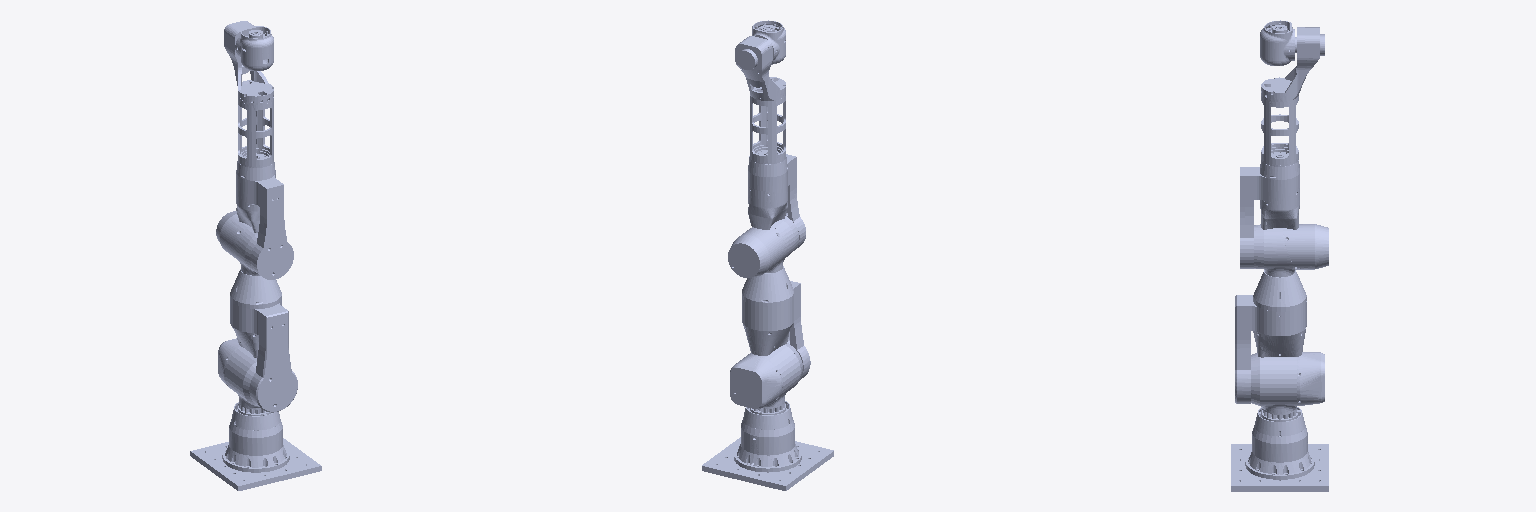
robot.urdf — mani2_config:
<?xml version="1.0" encoding="utf-8"?>
<!-- This URDF was automatically created by SolidWorks to URDF Exporter! Originally created by [author] ([email redacted]) 
     Commit Version: 1.6.0-1-g15f4949  Build Version: 1.6.7594.29634
     For more information, please see http://wiki.ros.org/sw_urdf_exporter -->
<robot
  name="mani2_config">
  <link
    name="mani2_base">
    <inertial>
      <origin
        xyz="-3.1029E-18 3.9676E-18 0.006"
        rpy="0 0 0" />
      <mass
        value="0.43725" />
      <inertia
        ixx="0.0015698"
        ixy="1.096E-20"
        ixz="1.1641E-20"
        iyy="0.0015694"
        iyz="-1.1277E-20"
        izz="0.0031287" />
    </inertial>
    <visual>
      <origin
        xyz="0 0 0"
        rpy="0 0 0" />
      <geometry>
        <mesh
          filename="package://mani2_config/meshes/mani2_base.STL" />
      </geometry>
      <material
        name="">
        <color
          rgba="0.79216 0.81961 0.93333 1" />
      </material>
    </visual>
    <collision>
      <origin
        xyz="0 0 0"
        rpy="0 0 0" />
      <geometry>
        <mesh
          filename="package://mani2_config/meshes/mani2_base.STL" />
      </geometry>
    </collision>
  </link>
  <link
    name="mani2_link1">
    <inertial>
      <origin
        xyz="0.00025963 -4.4216E-06 0.06121"
        rpy="0 0 0" />
      <mass
        value="0.67076" />
      <inertia
        ixx="0.00095513"
        ixy="-1.4502E-08"
        ixz="-1.0271E-06"
        iyy="0.00094832"
        iyz="-1.8227E-09"
        izz="0.0012889" />
    </inertial>
    <visual>
      <origin
        xyz="0 0 0"
        rpy="0 0 0" />
      <geometry>
        <mesh
          filename="package://mani2_config/meshes/mani2_link1.STL" />
      </geometry>
      <material
        name="">
        <color
          rgba="0.79216 0.81961 0.93333 1" />
      </material>
    </visual>
    <collision>
      <origin
        xyz="0 0 0"
        rpy="0 0 0" />
      <geometry>
        <mesh
          filename="package://mani2_config/meshes/mani2_link1.STL" />
      </geometry>
    </collision>
  </link>
  <joint
    name="mani2_fixed"
    type="fixed">
    <origin
      xyz="0 0 0.012"
      rpy="0 0 -1.5708" />
    <parent
      link="mani2_base" />
    <child
      link="mani2_link1" />
    <axis
      xyz="0 0 0" />
  </joint>
  <link
    name="mani2_link2">
    <inertial>
      <origin
        xyz="6.849E-05 -0.015121 0.063905"
        rpy="0 0 0" />
      <mass
        value="0.63538" />
      <inertia
        ixx="0.00072901"
        ixy="-3.9612E-07"
        ixz="1.1922E-06"
        iyy="0.0010627"
        iyz="2.6423E-06"
        izz="0.00069297" />
    </inertial>
    <visual>
      <origin
        xyz="0 0 0"
        rpy="0 0 0" />
      <geometry>
        <mesh
          filename="package://mani2_config/meshes/mani2_link2.STL" />
      </geometry>
      <material
        name="">
        <color
          rgba="0.79216 0.81961 0.93333 1" />
      </material>
    </visual>
    <collision>
      <origin
        xyz="0 0 0"
        rpy="0 0 0" />
      <geometry>
        <mesh
          filename="package://mani2_config/meshes/mani2_link2.STL" />
      </geometry>
    </collision>
  </link>
  <joint
    name="mani2_joint1"
    type="revolute">
    <origin
      xyz="0 0 0.125"
      rpy="0 0 1.5708" />
    <parent
      link="mani2_link1" />
    <child
      link="mani2_link2" />
    <axis
      xyz="0 0 1" />
    <limit
      lower="-2.35"
      upper="2.35"
      effort="100"
      velocity="0.8" />
  </joint>
  <link
    name="mani2_link3">
    <inertial>
      <origin
        xyz="-0.00018188 -0.11832 0.041393"
        rpy="0 0 0" />
      <mass
        value="0.55009" />
      <inertia
        ixx="0.0009283"
        ixy="-9.2458E-07"
        ixz="-9.3918E-07"
        iyy="0.00082363"
        iyz="1.9373E-05"
        izz="0.00096206" />
    </inertial>
    <visual>
      <origin
        xyz="0 0 0"
        rpy="0 0 0" />
      <geometry>
        <mesh
          filename="package://mani2_config/meshes/mani2_link3.STL" />
      </geometry>
      <material
        name="">
        <color
          rgba="0.79216 0.81961 0.93333 1" />
      </material>
    </visual>
    <collision>
      <origin
        xyz="0 0 0"
        rpy="0 0 0" />
      <geometry>
        <mesh
          filename="package://mani2_config/meshes/mani2_link3.STL" />
      </geometry>
    </collision>
  </link>
  <joint
    name="mani2_joint2"
    type="revolute">
    <origin
      xyz="0 -0.069 0.0675"
      rpy="-1.5708 0 0" />
    <parent
      link="mani2_link2" />
    <child
      link="mani2_link3" />
    <axis
      xyz="0 0 1" />
    <limit
      lower="-1.9"
      upper="1.9"
      effort="100"
      velocity="0.8" />
  </joint>
  <link
    name="mani2_link4">
    <inertial>
      <origin
        xyz="-8.8281E-05 -0.009886 0.069843"
        rpy="0 0 0" />
      <mass
        value="0.45928" />
      <inertia
        ixx="0.00040071"
        ixy="-2.3353E-07"
        ixz="-1.992E-06"
        iyy="0.00052253"
        iyz="2.47E-05"
        izz="0.00038096" />
    </inertial>
    <visual>
      <origin
        xyz="0 0 0"
        rpy="0 0 0" />
      <geometry>
        <mesh
          filename="package://mani2_config/meshes/mani2_link4.STL" />
      </geometry>
      <material
        name="">
        <color
          rgba="0.79216 0.81961 0.93333 1" />
      </material>
    </visual>
    <collision>
      <origin
        xyz="0 0 0"
        rpy="0 0 0" />
      <geometry>
        <mesh
          filename="package://mani2_config/meshes/mani2_link4.STL" />
      </geometry>
    </collision>
  </link>
  <joint
    name="mani2_joint3"
    type="revolute">
    <origin
      xyz="0 -0.2197 0.069"
      rpy="1.5708 0 0" />
    <parent
      link="mani2_link3" />
    <child
      link="mani2_link4" />
    <axis
      xyz="0 0 1" />
    <limit
      lower="-2.5"
      upper="2.5"
      effort="100"
      velocity="0.8" />
  </joint>
  <link
    name="mani2_link5">
    <inertial>
      <origin
        xyz="0.00019482 -0.11792 0.037427"
        rpy="0 0 0" />
      <mass
        value="0.43981" />
      <inertia
        ixx="0.00052212"
        ixy="1.2216E-07"
        ixz="-9.6251E-08"
        iyy="0.00035826"
        iyz="1.9152E-05"
        izz="0.00054597" />
    </inertial>
    <visual>
      <origin
        xyz="0 0 0"
        rpy="0 0 0" />
      <geometry>
        <mesh
          filename="package://mani2_config/meshes/mani2_link5.STL" />
      </geometry>
      <material
        name="">
        <color
          rgba="0.79216 0.81961 0.93333 1" />
      </material>
    </visual>
    <collision>
      <origin
        xyz="0 0 0"
        rpy="0 0 0" />
      <geometry>
        <mesh
          filename="package://mani2_config/meshes/mani2_link5.STL" />
      </geometry>
    </collision>
  </link>
  <joint
    name="mani2_joint4"
    type="revolute">
    <origin
      xyz="0 -0.061 0.0753"
      rpy="-1.5708 0 0" />
    <parent
      link="mani2_link4" />
    <child
      link="mani2_link5" />
    <axis
      xyz="0 0 1" />
    <limit
      lower="-1.8"
      upper="1.8"
      effort="100"
      velocity="0.8" />
  </joint>
  <link
    name="mani2_link6">
    <inertial>
      <origin
        xyz="1.0745E-05 0.030079 0.16626"
        rpy="0 0 0" />
      <mass
        value="0.30699" />
      <inertia
        ixx="0.0004714"
        ixy="3.3142E-08"
        ixz="-6.2237E-09"
        iyy="0.00049632"
        iyz="-4.3014E-05"
        izz="0.00023077" />
    </inertial>
    <visual>
      <origin
        xyz="0 0 0"
        rpy="0 0 0" />
      <geometry>
        <mesh
          filename="package://mani2_config/meshes/mani2_link6.STL" />
      </geometry>
      <material
        name="">
        <color
          rgba="0.79216 0.81961 0.93333 1" />
      </material>
    </visual>
    <collision>
      <origin
        xyz="0 0 0"
        rpy="0 0 0" />
      <geometry>
        <mesh
          filename="package://mani2_config/meshes/mani2_link6.STL" />
      </geometry>
    </collision>
  </link>
  <joint
    name="mani2_joint5"
    type="revolute">
    <origin
      xyz="0 -0.2 0.061"
      rpy="1.5708 0 0" />
    <parent
      link="mani2_link5" />
    <child
      link="mani2_link6" />
    <axis
      xyz="0 0 1" />
    <limit
      lower="-2.15"
      upper="2.15"
      effort="100"
      velocity="0.8" />
  </joint>
  <link
    name="mani2_link7">
    <inertial>
      <origin
        xyz="-0.00010944 -0.0075746 -0.032739"
        rpy="0 0 0" />
      <mass
        value="0.10158" />
      <inertia
        ixx="6.5446E-05"
        ixy="-2.9093E-08"
        ixz="4.8842E-08"
        iyy="6.9978E-05"
        iyz="2.982E-07"
        izz="6.75E-05" />
    </inertial>
    <visual>
      <origin
        xyz="0 0 0"
        rpy="0 0 0" />
      <geometry>
        <mesh
          filename="package://mani2_config/meshes/mani2_link7.STL" />
      </geometry>
      <material
        name="">
        <color
          rgba="0.79216 0.81961 0.93333 1" />
      </material>
    </visual>
    <collision>
      <origin
        xyz="0 0 0"
        rpy="0 0 0" />
      <geometry>
        <mesh
          filename="package://mani2_config/meshes/mani2_link7.STL" />
      </geometry>
    </collision>
  </link>
  <joint
    name="mani2_joint6"
    type="revolute">
    <origin
      xyz="0 0.032 0.25"
      rpy="-1.5708 0 0" />
    <parent
      link="mani2_link6" />
    <child
      link="mani2_link7" />
    <axis
      xyz="0 0 1" />
    <limit
      lower="-2.09"
      upper="2.09"
      effort="100"
      velocity="0.8" />
  </joint>
  <link
    name="mani2_eef">
    <inertial>
      <origin
        xyz="0.00052359 -0.00015741 0.046995"
        rpy="0 0 0" />
      <mass
        value="0.26908" />
      <inertia
        ixx="8.5289E-05"
        ixy="9.3888E-10"
        ixz="-1.0334E-07"
        iyy="0.00013205"
        iyz="-3.8971E-07"
        izz="0.00014078" />
    </inertial>
    <visual>
      <origin
        xyz="0 0 0"
        rpy="0 0 0" />
      <geometry>
        <mesh
          filename="package://mani2_config/meshes/mani2_eef.STL" />
      </geometry>
      <material
        name="">
        <color
          rgba="0.79216 0.81961 0.93333 1" />
      </material>
    </visual>
    <collision>
      <origin
        xyz="0 0 0"
        rpy="0 0 0" />
      <geometry>
        <mesh
          filename="package://mani2_config/meshes/mani2_eef.STL" />
      </geometry>
    </collision>
  </link>
  <joint
    name="mani2_joint7"
    type="revolute">
    <origin
      xyz="0 -0.0405 -0.032"
      rpy="1.5708 0 0" />
    <parent
      link="mani2_link7" />
    <child
      link="mani2_eef" />
    <axis
      xyz="0 0 1" />
    <limit
      lower="-2.95"
      upper="2.95"
      effort="100"
      velocity="0.8" />
  </joint>
</robot>

--- What the picture shows (computed from the rendered views, not written in the file) ---
Views: 3 orthographic renders of the robot side by side, from view 1: azimuth 30°, elevation 25°; view 2: azimuth 150°, elevation 25°; view 3: azimuth 270°, elevation 25°.
Robot: mani2_config — 9 links, 8 joints (7 revolute, 1 fixed); root link mani2_base; default pose: all joints at 0.
Links seen in each view (by area): view 1: mani2_link3, mani2_link5, mani2_link6, mani2_link1, mani2_base, mani2_link2, mani2_link4, mani2_link7; view 2: mani2_link3, mani2_link6, mani2_link2, mani2_link1, mani2_link5, mani2_link4, mani2_base, mani2_link7; view 3: mani2_link3, mani2_link5, mani2_link2, mani2_link6, mani2_link1, mani2_link4, mani2_base, mani2_link7.
Link boxes in pixels (left/top/right/bottom): mani2_link3: left=230, top=269, right=297, bottom=412; mani2_link5: left=236, top=157, right=293, bottom=279; mani2_link6: left=224, top=21, right=273, bottom=167; mani2_link1: left=222, top=402, right=289, bottom=472; mani2_base: left=190, top=438, right=321, bottom=490; mani2_link2: left=218, top=338, right=264, bottom=413; mani2_link4: left=216, top=211, right=259, bottom=275; mani2_link7: left=235, top=26, right=273, bottom=70; mani2_link3: left=742, top=266, right=810, bottom=380; mani2_link6: left=735, top=36, right=785, bottom=164; mani2_link2: left=730, top=343, right=802, bottom=414; mani2_link1: left=734, top=401, right=801, bottom=472; mani2_link5: left=748, top=153, right=805, bottom=250; mani2_link4: left=728, top=216, right=798, bottom=277; mani2_base: left=702, top=437, right=833, bottom=490; mani2_link7: left=752, top=20, right=785, bottom=64; mani2_link3: left=1235, top=270, right=1306, bottom=403; mani2_link5: left=1240, top=155, right=1299, bottom=268; mani2_link2: left=1251, top=352, right=1324, bottom=419; mani2_link6: left=1261, top=27, right=1324, bottom=166; mani2_link1: left=1245, top=407, right=1314, bottom=479; mani2_link4: left=1254, top=224, right=1328, bottom=277; mani2_base: left=1231, top=444, right=1328, bottom=491; mani2_link7: left=1260, top=20, right=1295, bottom=65.
Size in the robot's own frame: 0.2 by 0.2 by 0.9895 metres.
8 mesh visuals loaded from 9 distinct referenced files (8 binary STL); not drawn: 1 (reference not matched to a file when rendering).